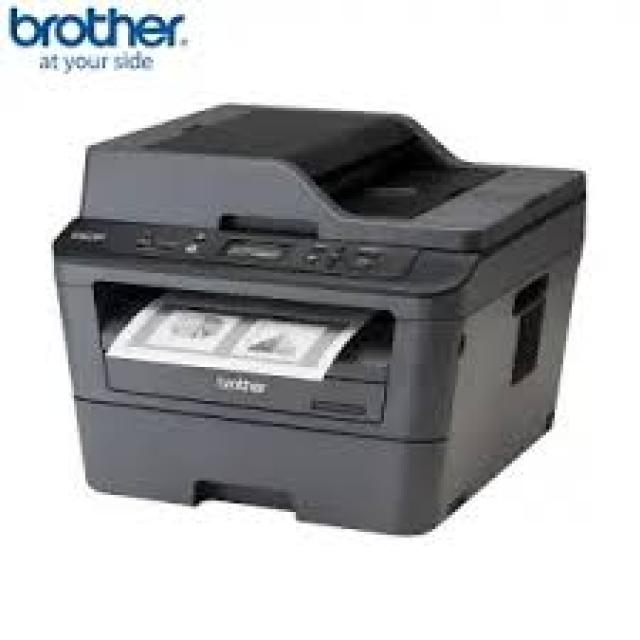printer: (48, 100, 586, 534)
